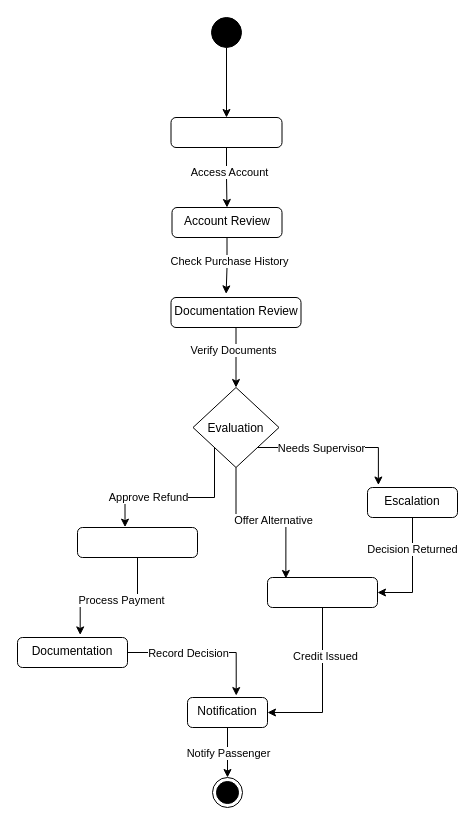
The diagram is 475 pixels wide and 825 high, and some of its shapes have lost their labels. Here are the shapes that lost their labels. From the top down, the centre of each, then its label:
At [226,132]: "Request Received".
At [137,542]: "Payment Processing".
At [322,592]: "Alternative Offer".
